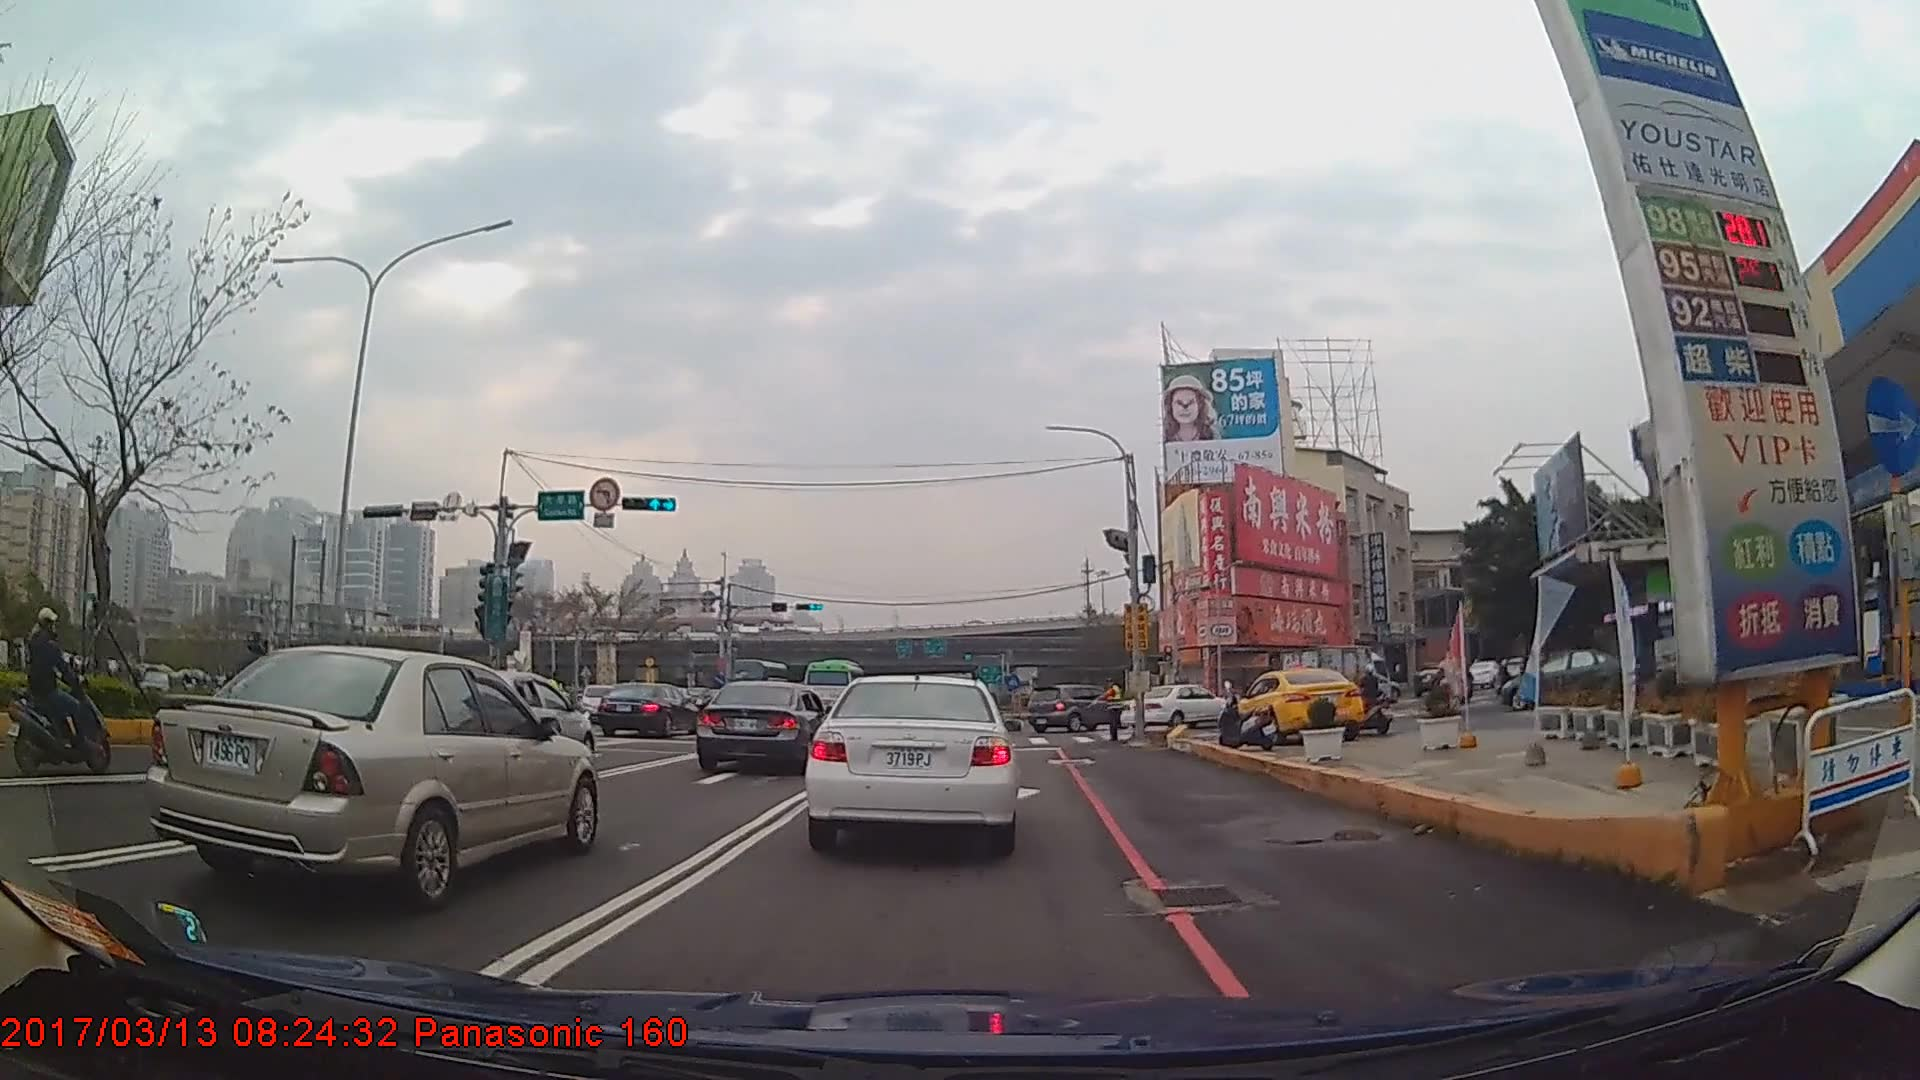pedestrian: (1092, 680, 1121, 744)
rider: (14, 610, 106, 780), (1351, 665, 1393, 738), (1429, 658, 1455, 721)
vehicle: (147, 644, 602, 908), (806, 670, 1017, 850), (691, 679, 831, 775), (1230, 666, 1365, 745), (1273, 643, 1390, 712), (1121, 681, 1232, 729), (595, 680, 694, 734), (1025, 682, 1131, 730), (800, 658, 866, 715)
